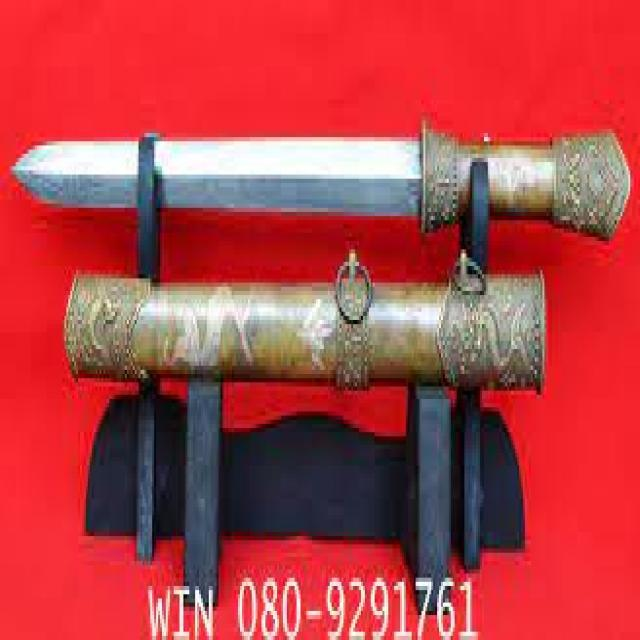short sword: (8, 73, 634, 443)
